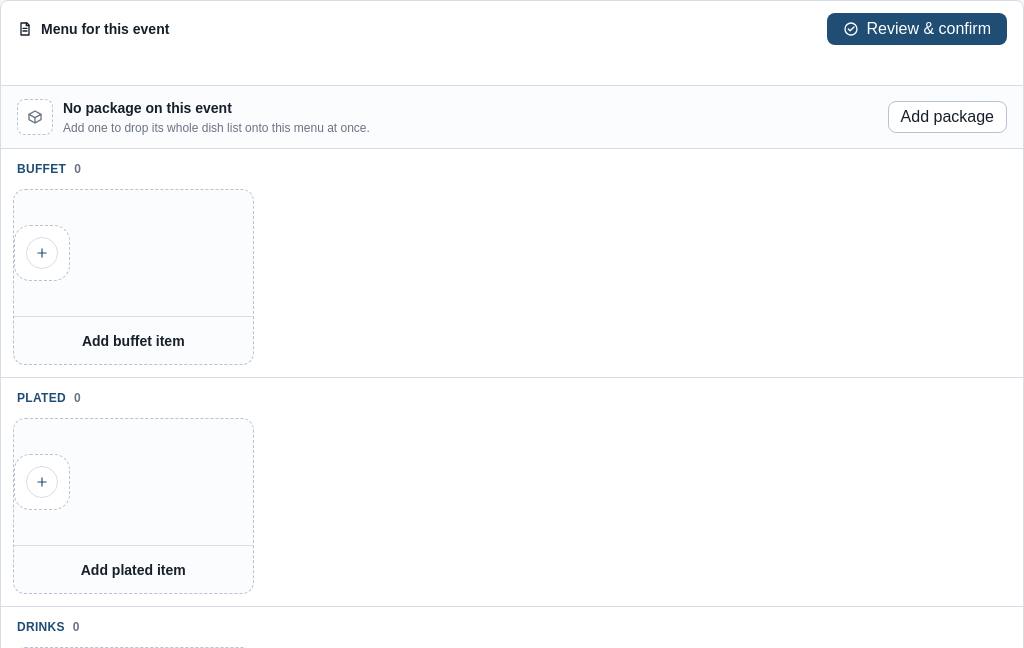
Test: event menu packages › offers only active packages, with the style each dish will land under
Click the button "Add package" at coordinates (947, 117), box [888,101,1007,133]
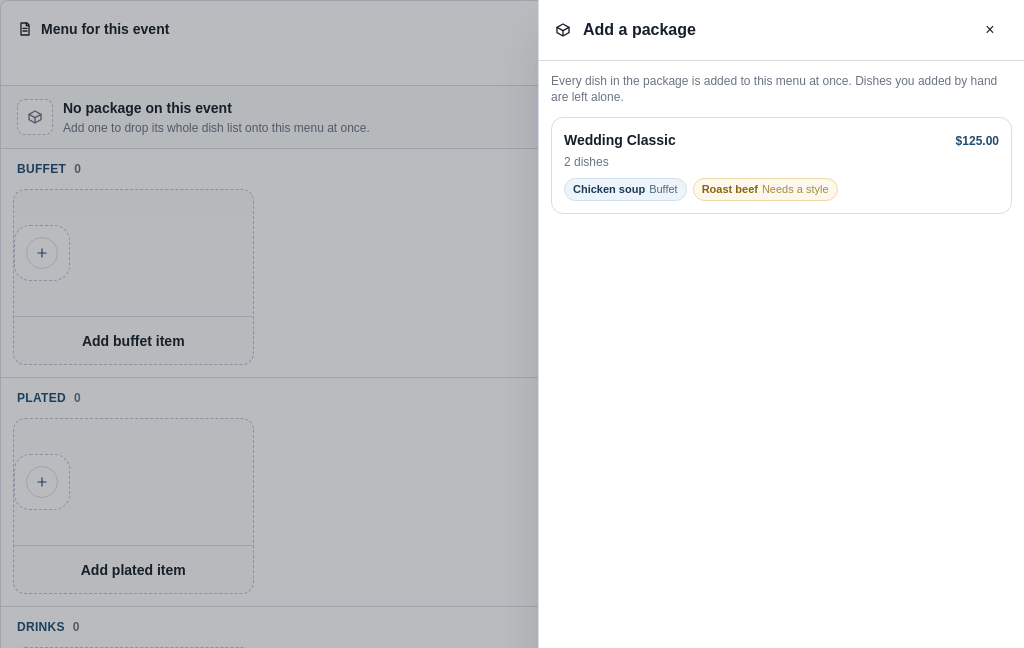
Expected: the text "Wedding Classic" is shown, [564,130,676,150]
Expected: the text "Chicken soup" is shown, [573,181,645,198]
Expected: the text "Needs a style" is shown, [762,181,829,198]
